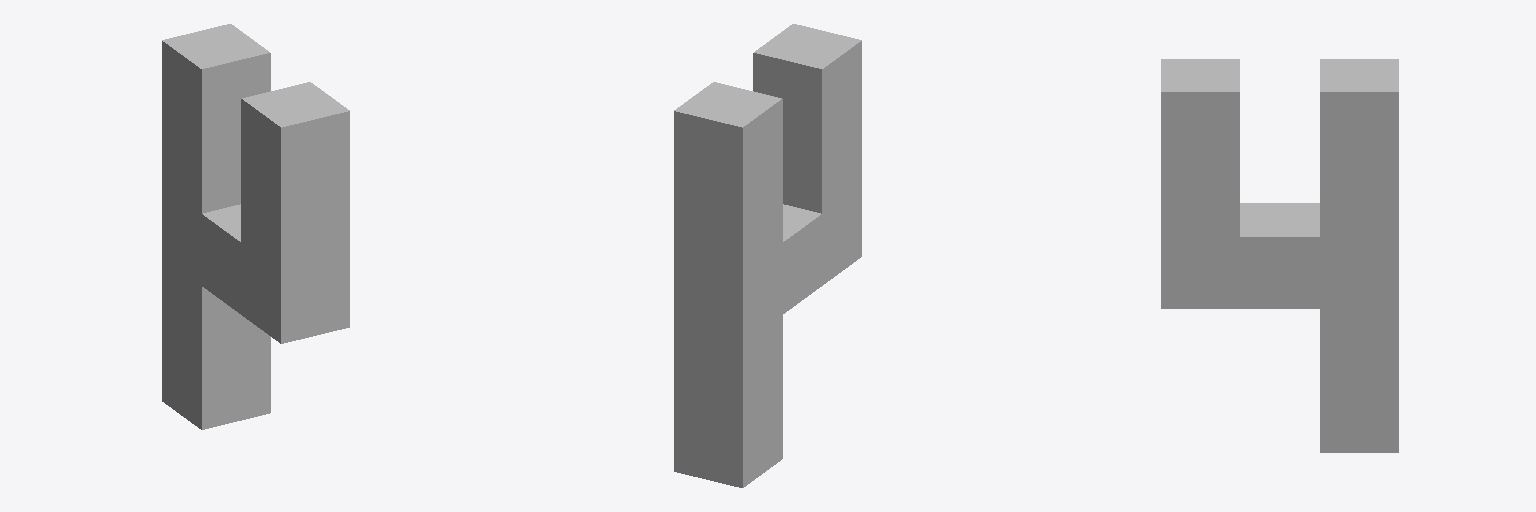
The picture shows the model from 3 angles: view 1: azimuth 30°, elevation 25°; view 2: azimuth 150°, elevation 25°; view 3: azimuth 270°, elevation 25°; orthographic projection.
Parts seen in each view (by area): view 1: mesh[number redacted]; view 2: mesh[number redacted]; view 3: mesh[number redacted].
Part boxes in pixels (left/top/right/bottom): mesh[number redacted]: left=162, top=24, right=349, bottom=429; mesh[number redacted]: left=674, top=24, right=861, bottom=487; mesh[number redacted]: left=1161, top=59, right=1398, bottom=452.
Bounding box in the file's own units: 0.02 × 0.1 × 0.06.